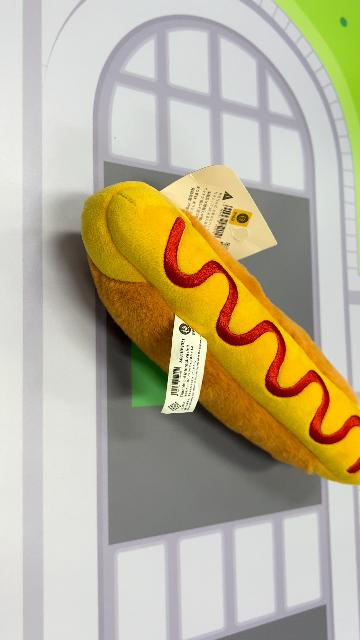hotdog: (81, 179, 360, 487)
